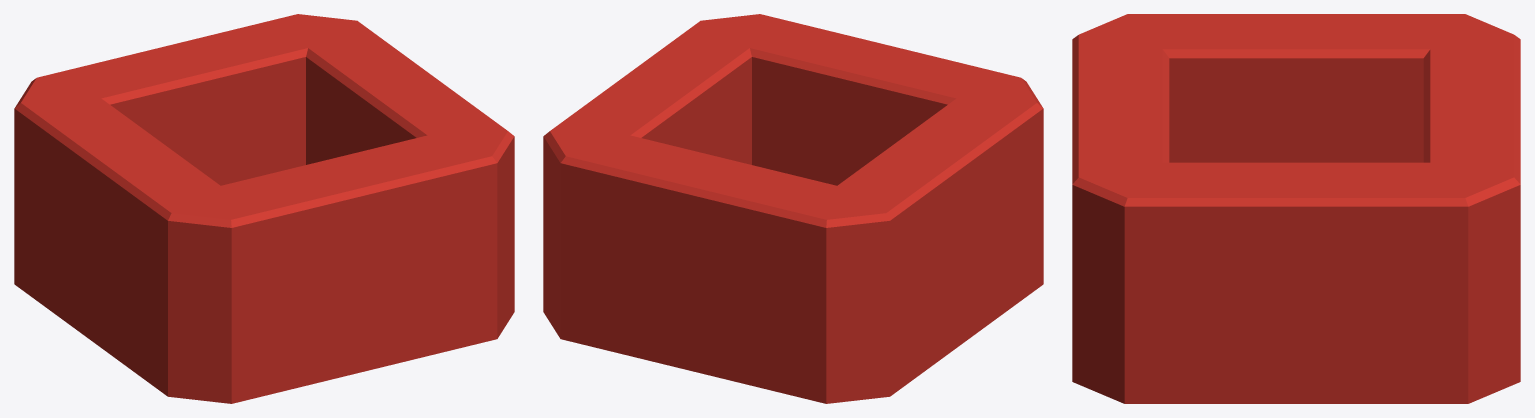
File: Barcelona.dae
3 renders of one model, left to right at view 1: azimuth 30°, elevation 25°; view 2: azimuth 150°, elevation 25°; view 3: azimuth 270°, elevation 25°, orthographic. The views are drawn at different scales.
Visible parts, largest first — view 1: Building; view 2: Building; view 3: Building.
Part boxes in pixels (x1,y1,x2,y2): Building: (14, 14, 514, 403); Building: (543, 14, 1043, 403); Building: (1072, 14, 1520, 403).
Bounding box in the file's own units: 2 × 2 × 1.
